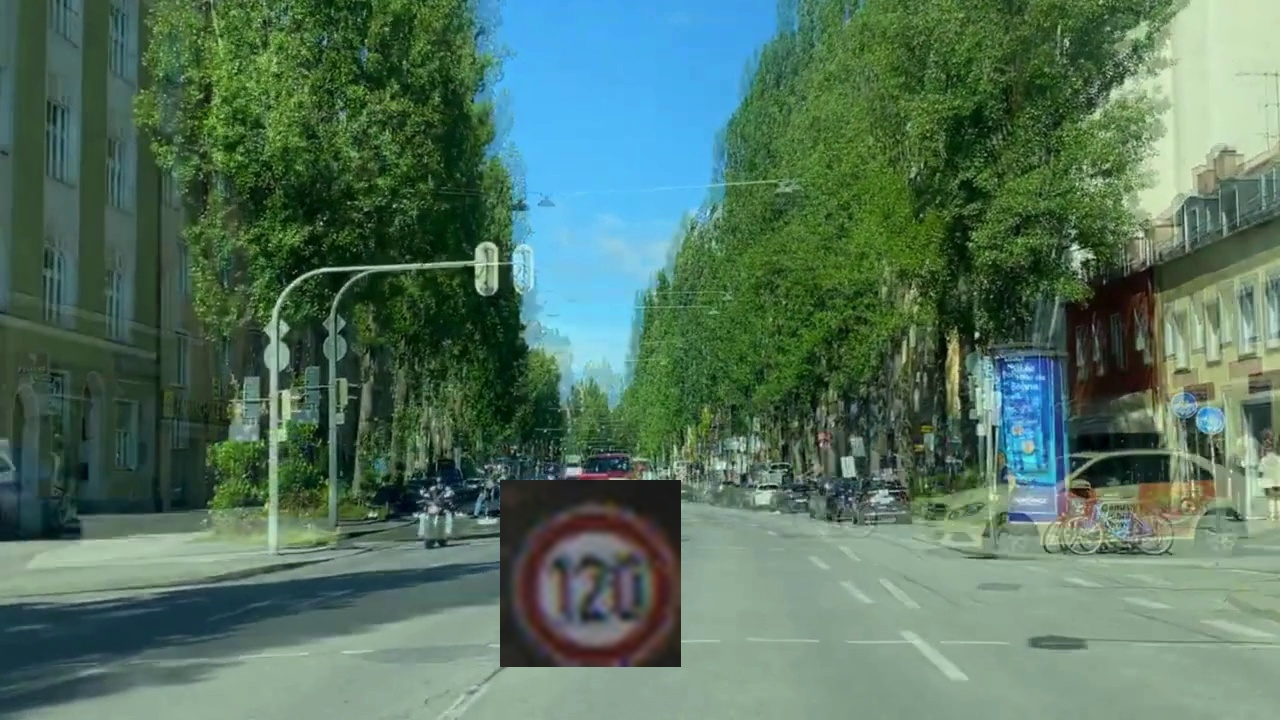Speed 120: (500, 480, 681, 667)
